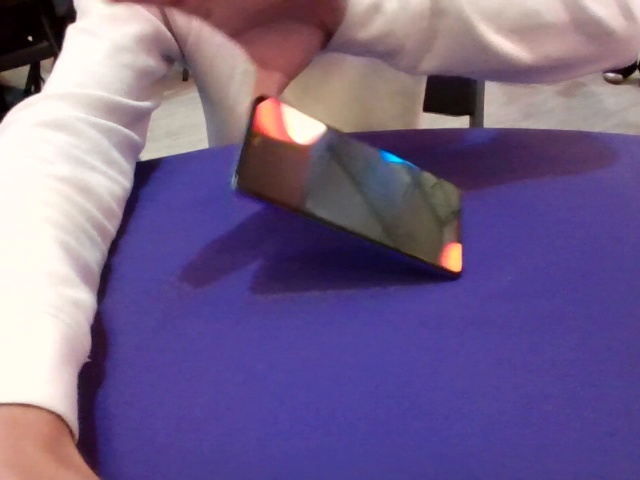celular: (233, 94, 462, 277)
